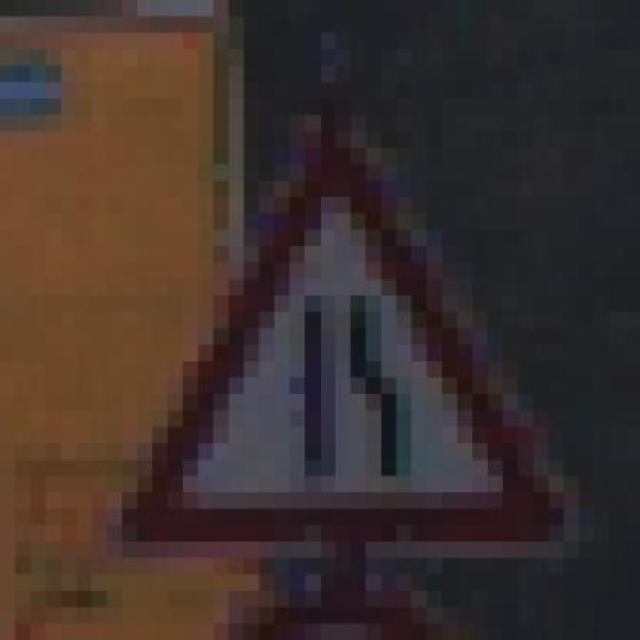-Road narrows on right: (92, 115, 579, 574)
